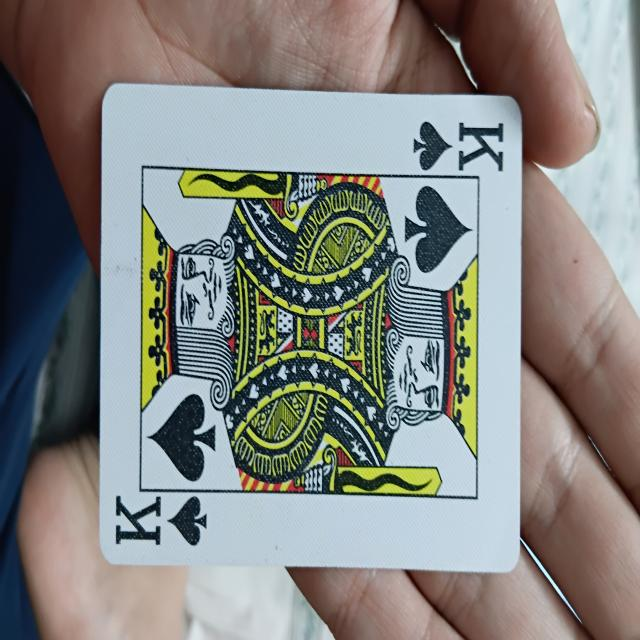KS: (100, 83, 520, 572)
